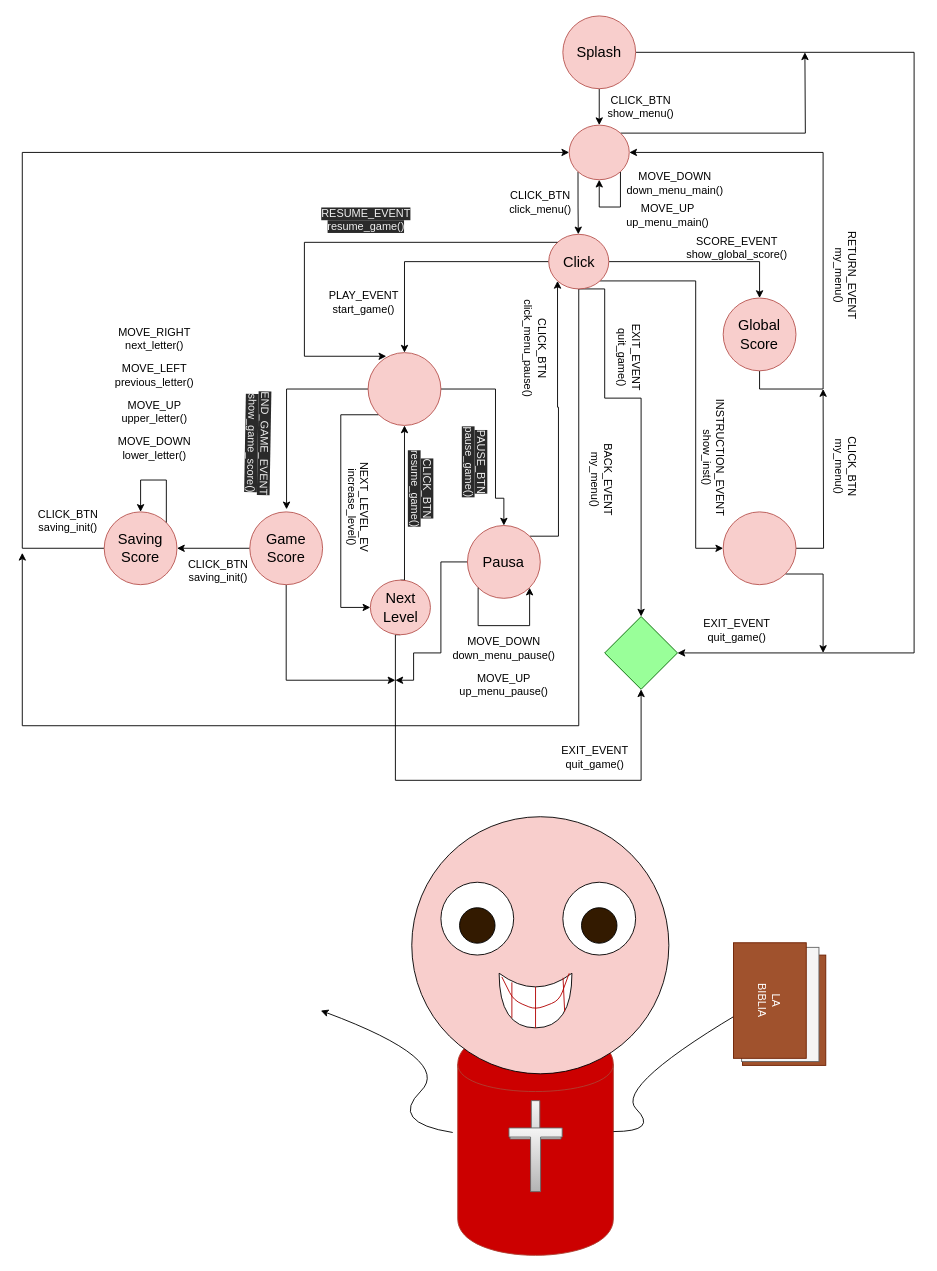
Image size: 937x1271. Some labels were removed from this diagram. The shapes that lost their labels are listed below. From the top down, each one's centre as x and y in pixels, then its label:
At [598,152]: "Menú".
At [404,388]: "Play".
At [759,548]: "Instruction".
At [640,652]: "FIN".
